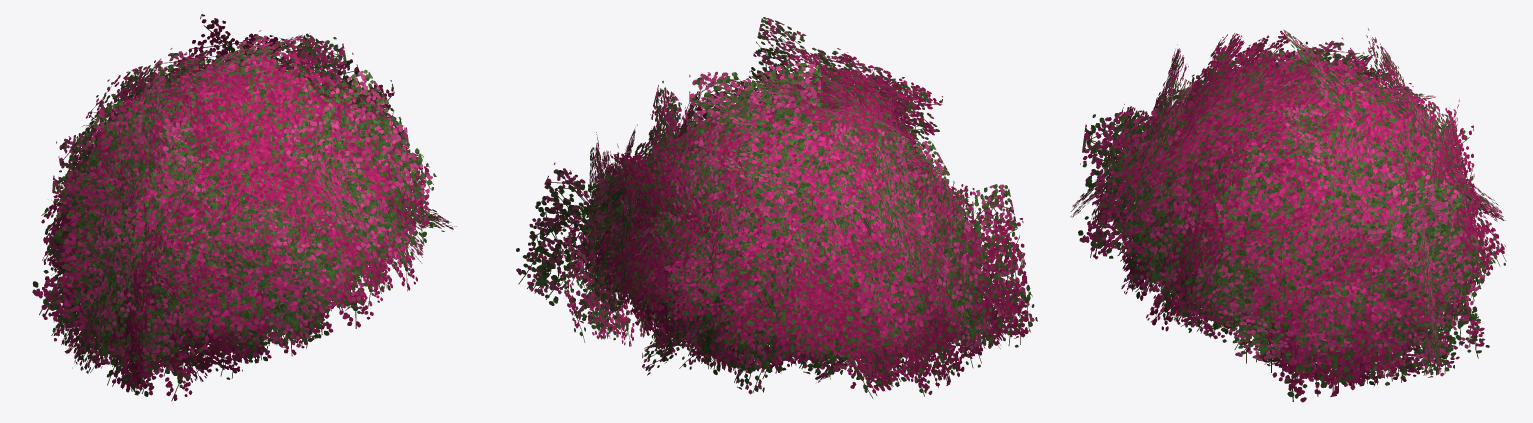
File: shrub_bougainvillea.glb
3 views of the same model, side by side, from view 1: azimuth 30°, elevation 25°; view 2: azimuth 150°, elevation 25°; view 3: azimuth 270°, elevation 25° (orthographic). The views are drawn at different scales.
Visible parts, largest first — view 1: shrub_bougainvillea; view 2: shrub_bougainvillea; view 3: shrub_bougainvillea.
Part boxes in pixels (bbox=[...]): shrub_bougainvillea: bbox=[32, 14, 456, 401]; shrub_bougainvillea: bbox=[516, 17, 1037, 398]; shrub_bougainvillea: bbox=[1070, 28, 1506, 402].
Bounding box in the file's own units: 4.4 × 2.64 × 3.67.
Materials: 1 (1 with a texture image).
